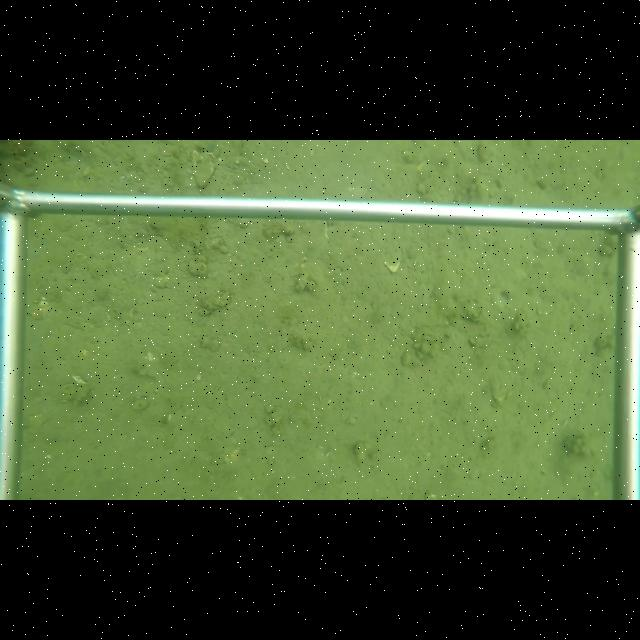Oyster-Closed: (189, 150, 217, 191)
